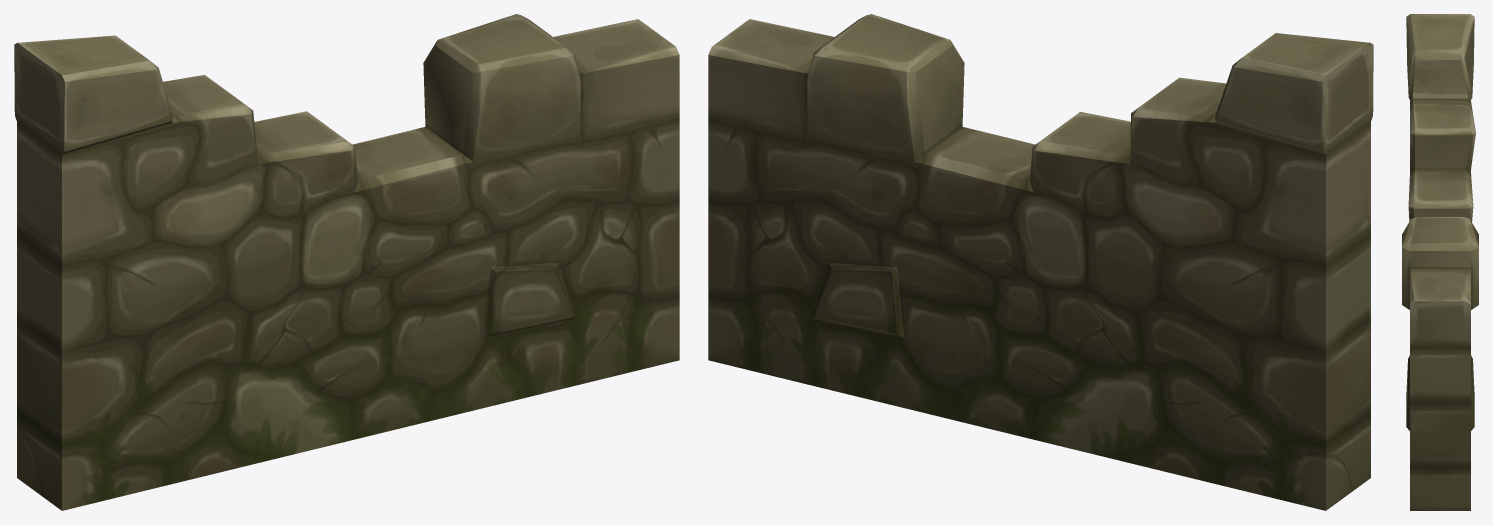
File: Wall_2.FBX
3 renders of one model, left to right at view 1: azimuth 30°, elevation 25°; view 2: azimuth 150°, elevation 25°; view 3: azimuth 270°, elevation 25°, orthographic. The views are drawn at different scales.
Visible parts, largest first — view 1: Wall_2; view 2: Wall_2; view 3: Wall_2.
Part boxes in pixels (x1,y1,x2,y2): Wall_2: [14, 14, 679, 510]; Wall_2: [708, 14, 1373, 510]; Wall_2: [1402, 14, 1478, 510].
Size of what is drawn, in the model's own units: 500 by 79.99 by 337.
